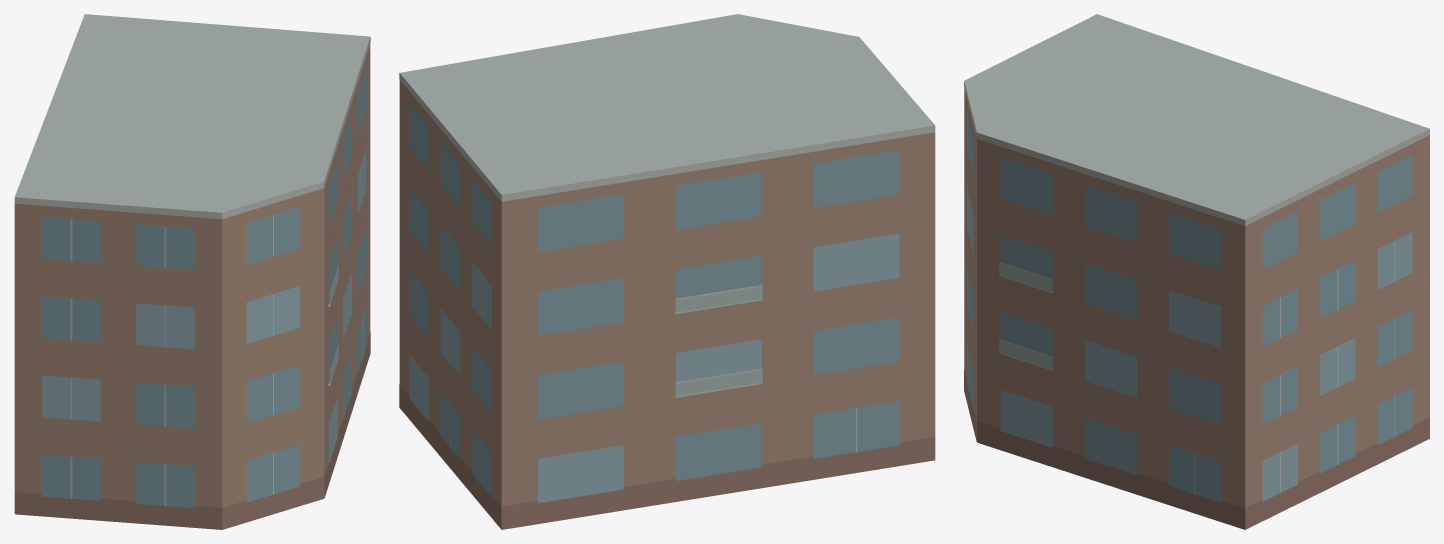
Rendered from survey-upis-32846916.glb.
3 renders of one model, left to right at view 1: azimuth 30°, elevation 25°; view 2: azimuth 150°, elevation 25°; view 3: azimuth 270°, elevation 25°, orthographic. The views are drawn at different scales.
Visible parts, largest first — view 1: survey-upis-32846916.tmp; view 2: survey-upis-32846916.tmp; view 3: survey-upis-32846916.tmp.
Part boxes in pixels (bbox=[...]): survey-upis-32846916.tmp: bbox=[14, 14, 370, 529]; survey-upis-32846916.tmp: bbox=[399, 14, 935, 529]; survey-upis-32846916.tmp: bbox=[964, 14, 1429, 529].
Bounding box in the file's own units: 17.25 × 12.1 × 16.48.
